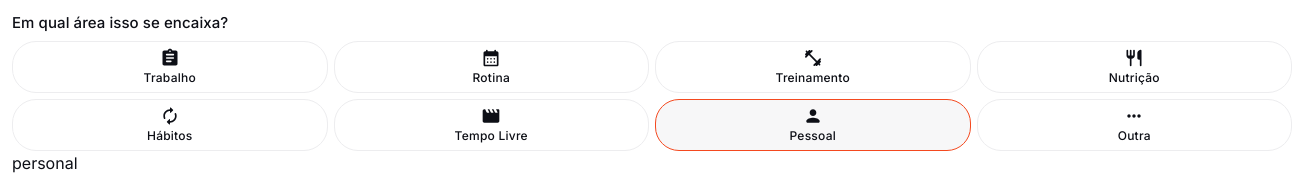
Scenario: AreaStep › selects a different area on click
Click the radio button labelled "Tempo Livre".
click(491, 125)  # box [334,99,649,151]
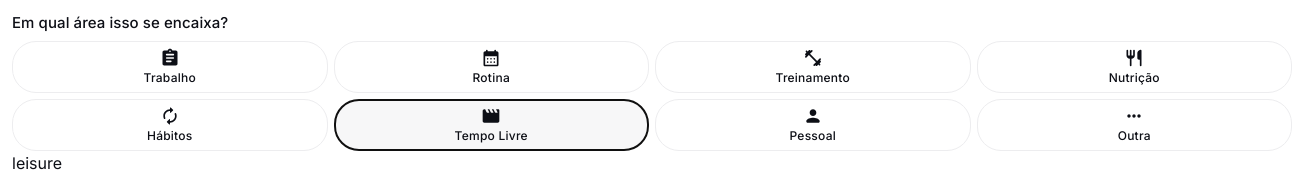
Result: the text with test id "area-value" reads "leisure" at [12,153,62,173]
